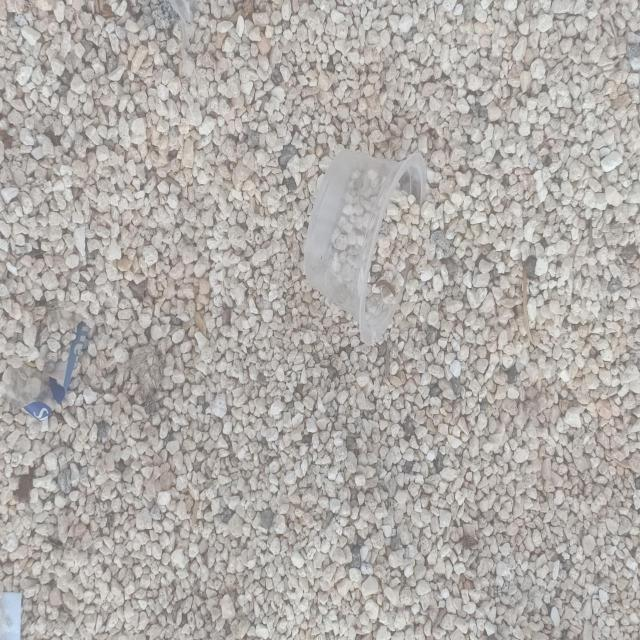plastic_waste: (304, 149, 428, 348)
